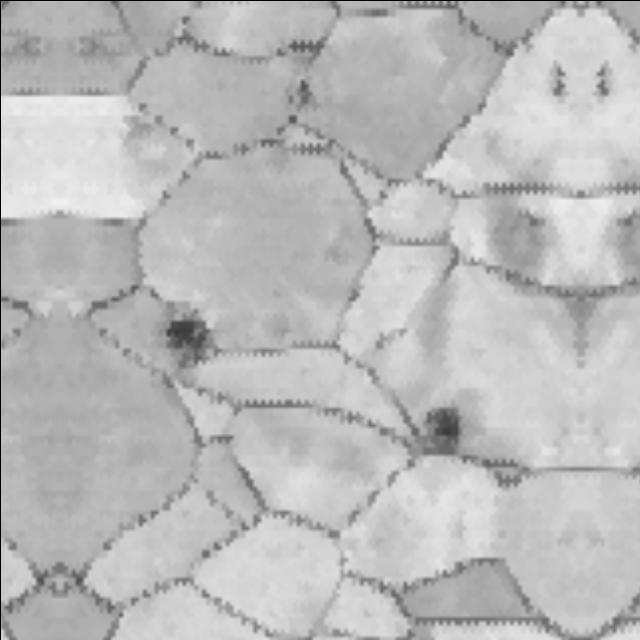good_void: (482, 198, 552, 273), (146, 312, 225, 369), (407, 402, 474, 464), (610, 201, 640, 273), (292, 71, 315, 116), (547, 58, 569, 99), (593, 58, 615, 99)
